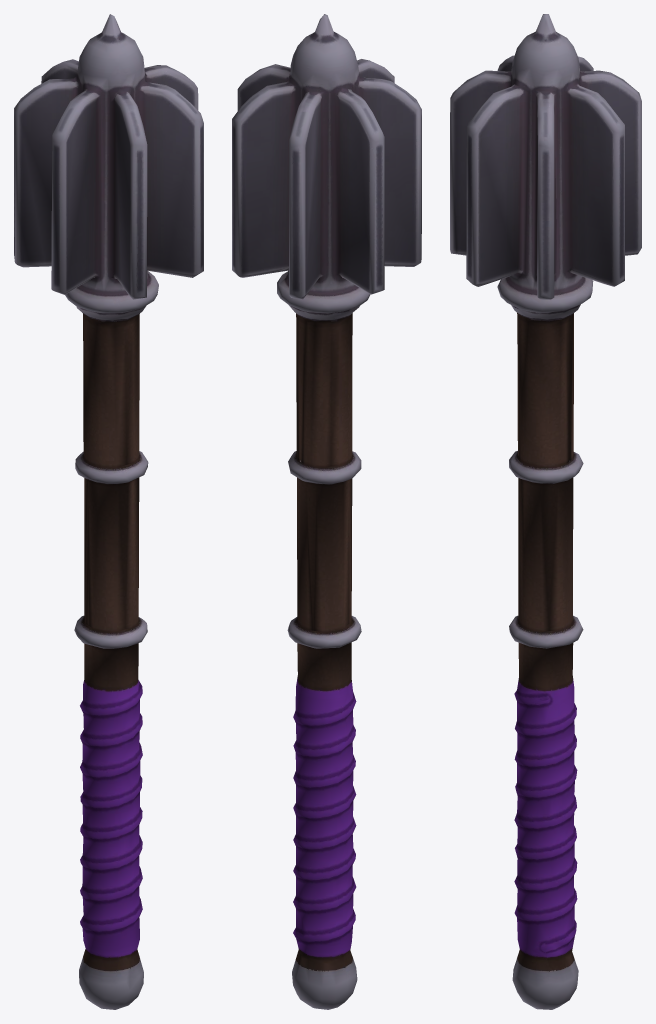
The model's file is weapon_mace_flanged.glb.
The picture shows the model from 3 angles, left to right: view 1: azimuth 30°, elevation 25°; view 2: azimuth 150°, elevation 25°; view 3: azimuth 270°, elevation 25°; orthographic projection.
Visible parts, largest first — view 1: weapon_mace_flanged; view 2: weapon_mace_flanged; view 3: weapon_mace_flanged.
Part boxes in pixels (x1,y1,x2,y2): weapon_mace_flanged: (14, 14, 203, 1009); weapon_mace_flanged: (232, 14, 421, 1009); weapon_mace_flanged: (450, 14, 641, 1009).
Size of the model in its own units: 0.1441 by 0.8431 by 0.1476.
Materials: 1 (1 with a texture image).
